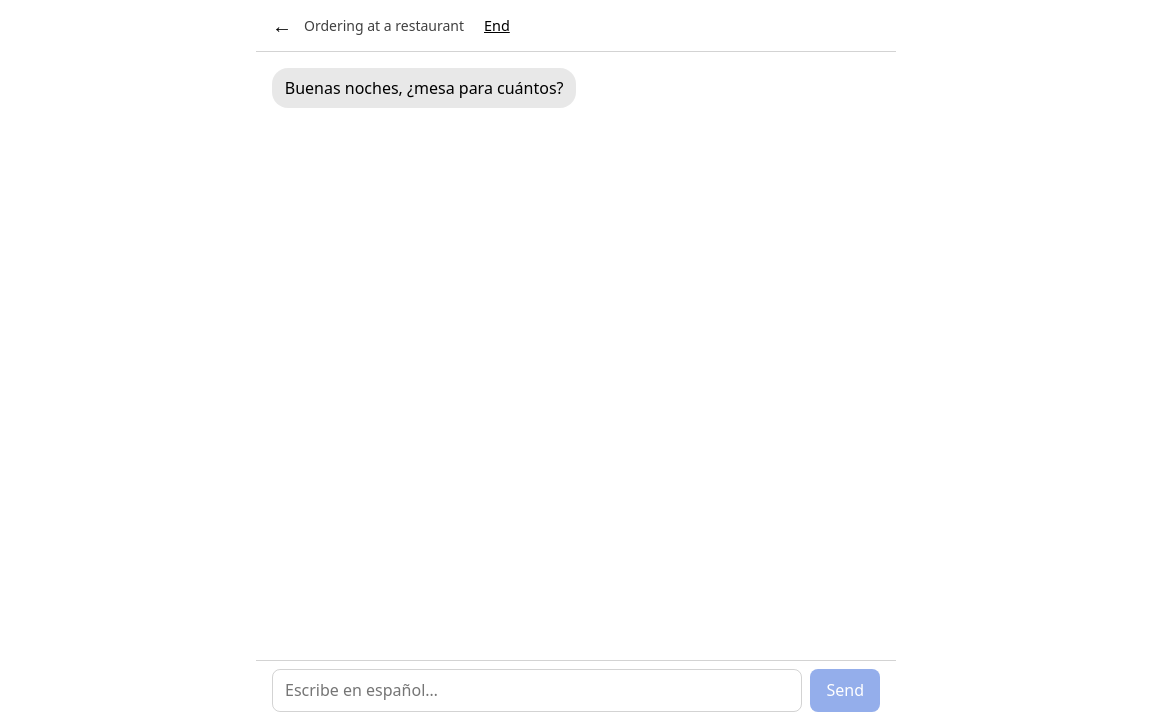
Test case: underlines a flagged span and opens the correction sheet on tap
Expected: the text "Ordering at a restaurant" is shown, [304, 16, 464, 35]
Type "Yo soy muy cansado." into the field named "Your message" at (537, 690), box [272, 669, 802, 712]
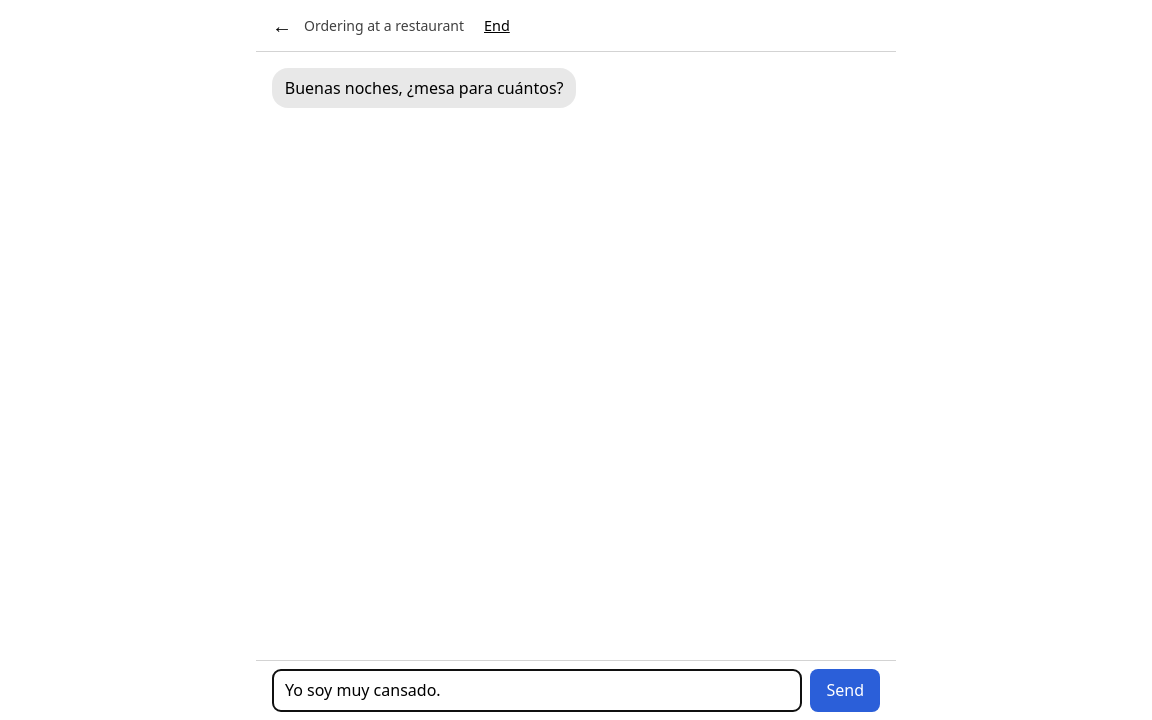
Click the button "Send" at (845, 690), box [810, 669, 880, 712]
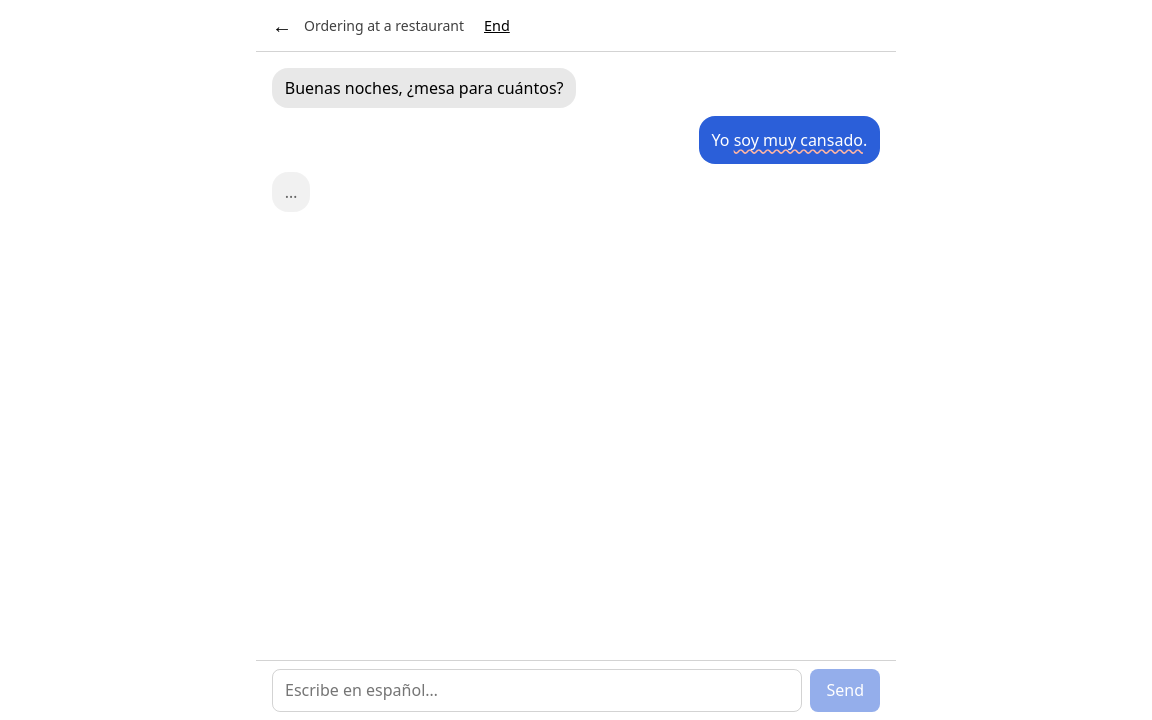
Click the button with aria-label "Mistake: soy muy cansado" at (798, 140), box [734, 125, 863, 155]
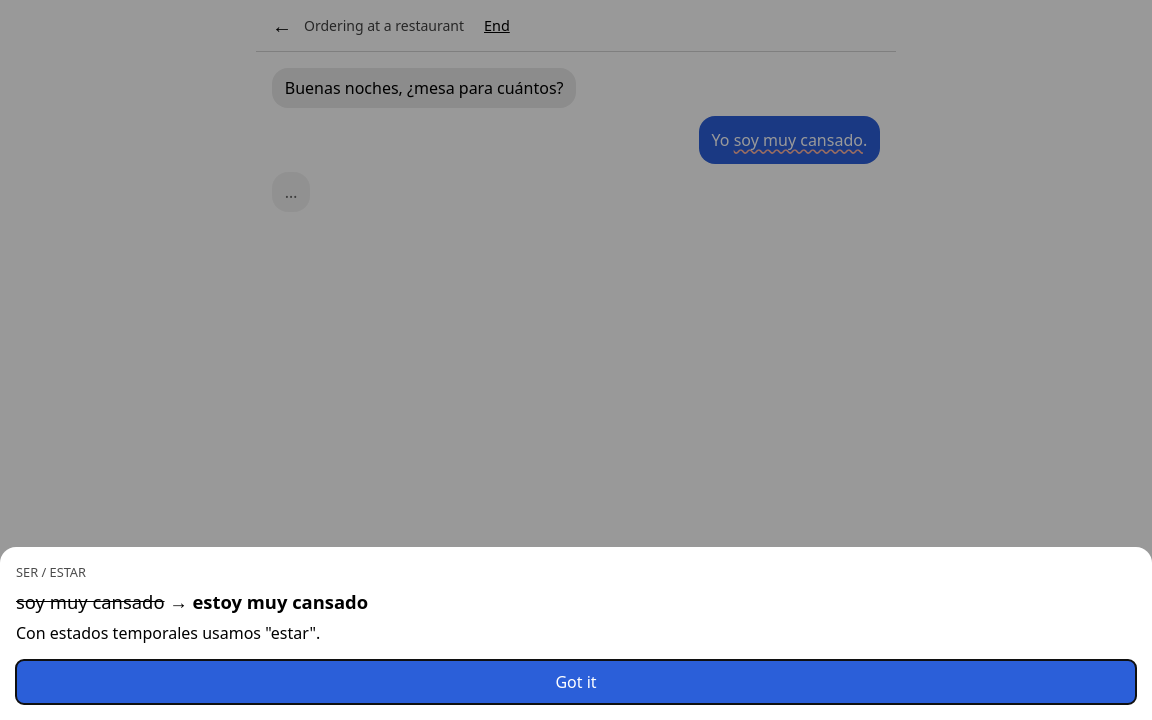
Result: the dialog named "Correction" shows "estoy muy cansado" at [192, 589, 368, 614]
Result: the dialog named "Correction" shows "Ser / estar" at [16, 563, 86, 581]
Result: the dialog named "Correction" shows "Con estados temporales usamos \"estar\"." at [16, 622, 320, 644]
Click the button "Got it" at (576, 682), box [16, 660, 1136, 704]
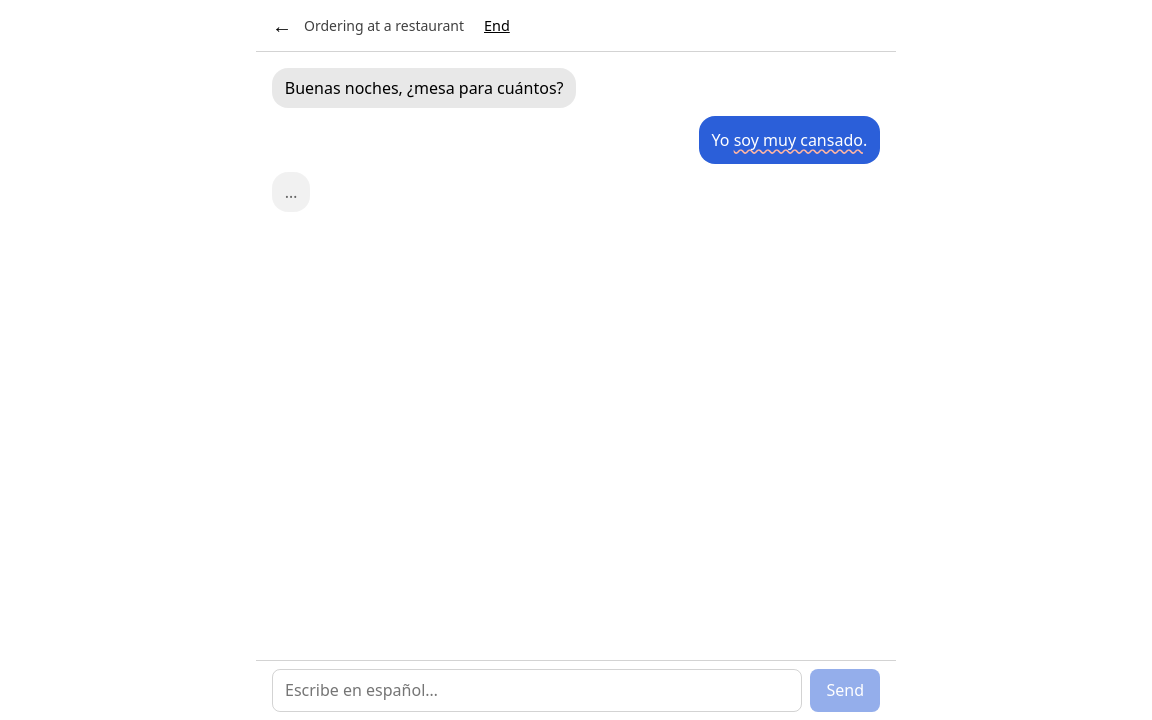
Result: the dialog is gone
